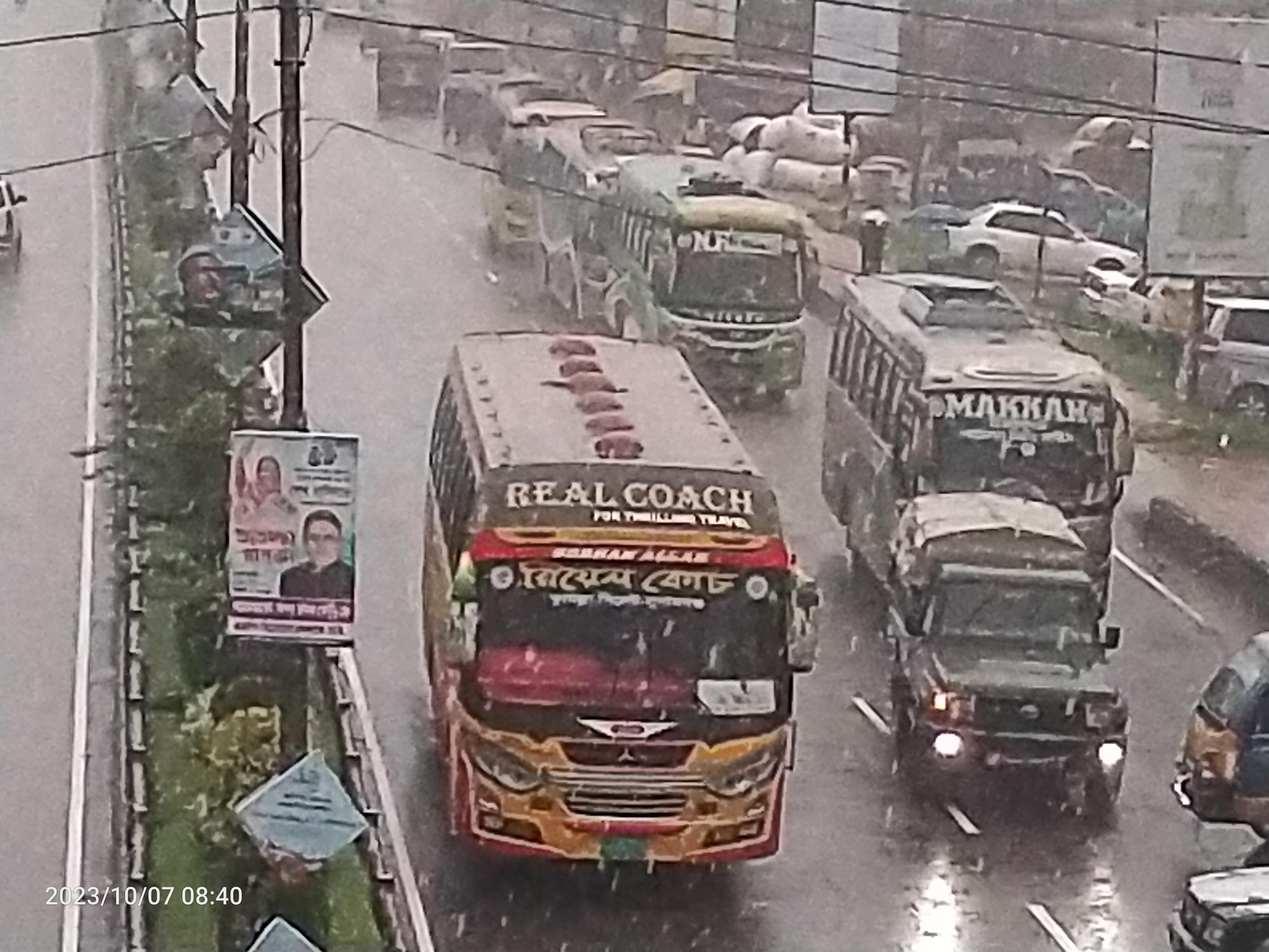Bus: (376, 308, 855, 935), (813, 258, 1150, 662), (565, 151, 834, 421), (473, 57, 603, 281), (353, 25, 450, 130)
Car: (918, 193, 1166, 296), (1162, 275, 1269, 429), (1079, 252, 1249, 343)
Truck: (864, 474, 1154, 832), (1165, 613, 1269, 835)
